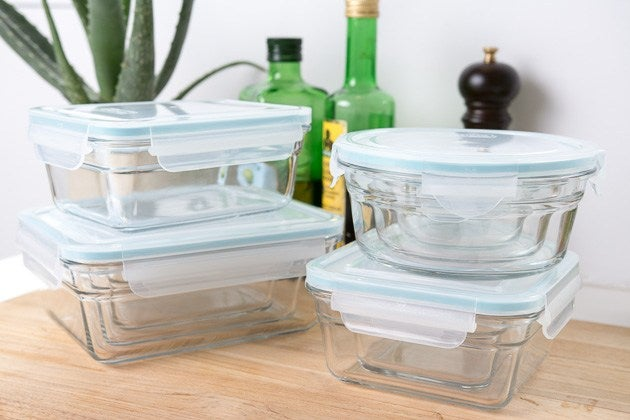PlasticBox: (322, 126, 611, 276)
